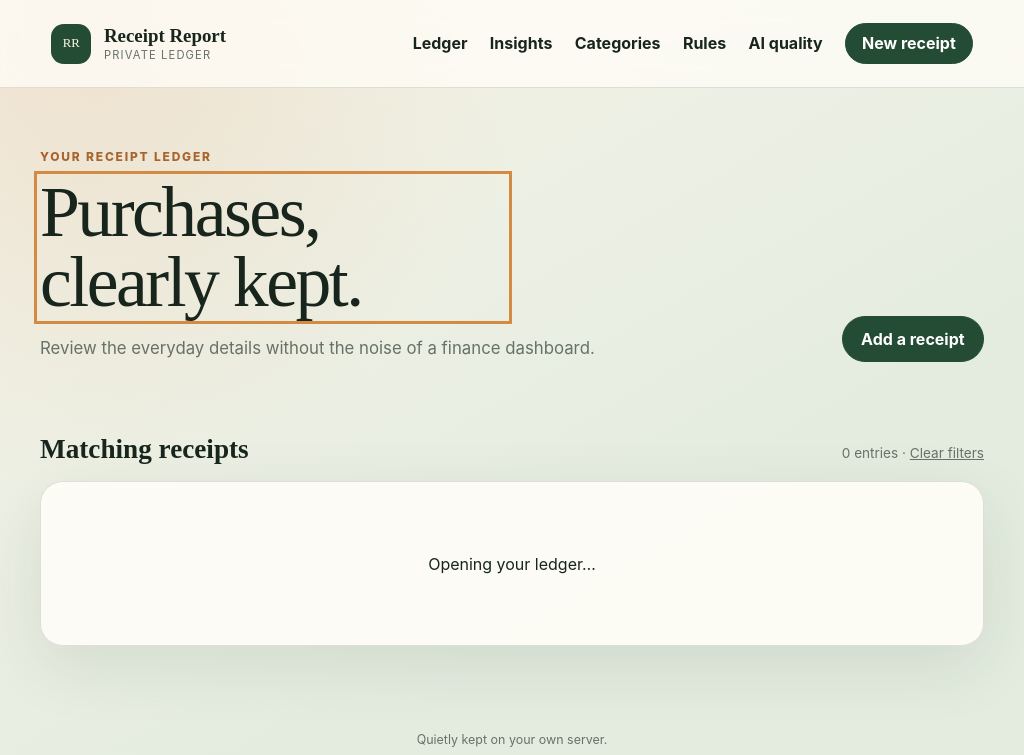
Test: application shell › refetches the ledger when same-page filters are cleared
This screenshot has width=1024, height=755.
Expected: the heading "Matching receipts" is shown, [40, 434, 249, 465]
Click the link "Clear filters". click: [947, 453]
box: [910, 445, 984, 461]
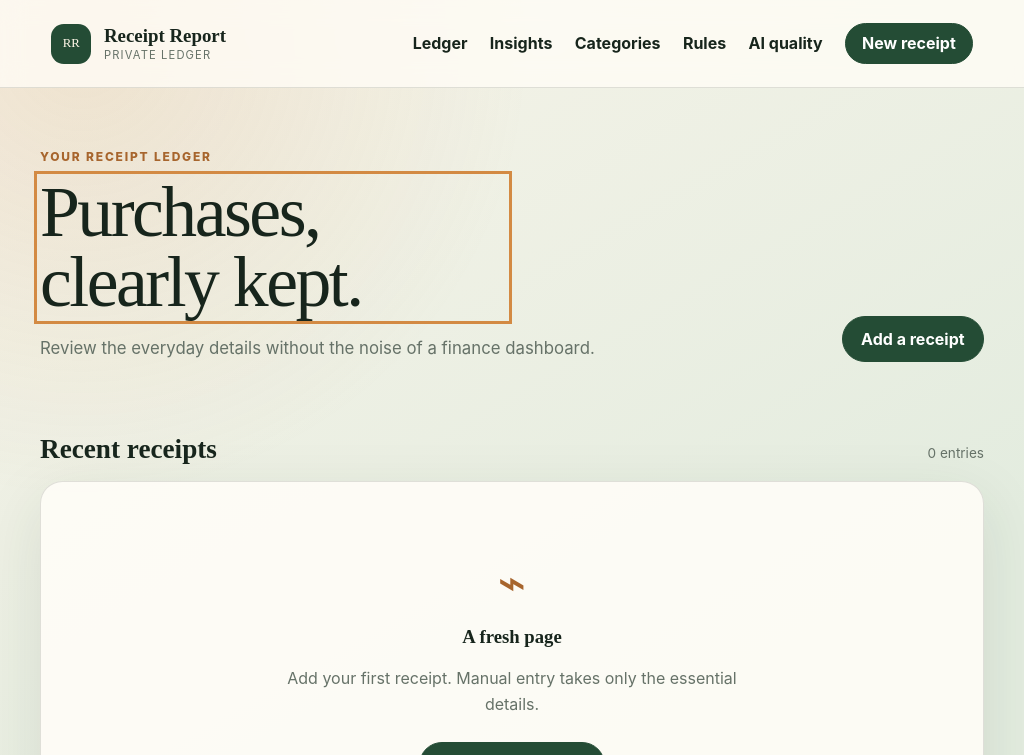
Expected: the heading "Recent receipts" is shown, [40, 434, 217, 465]
